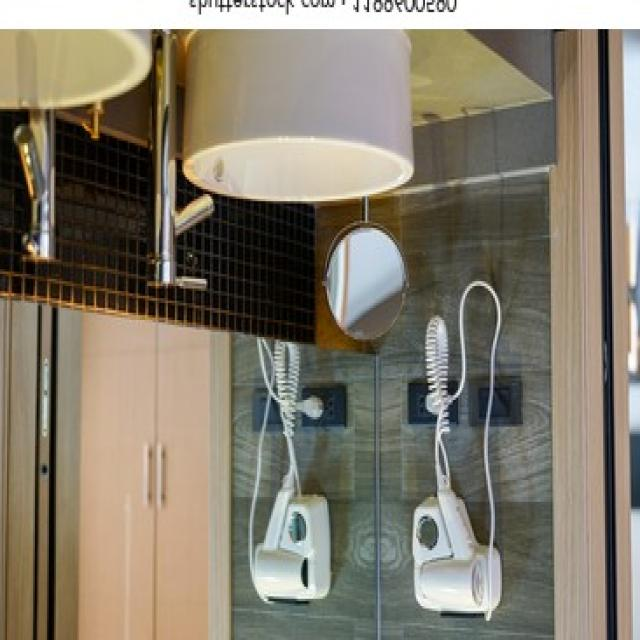dryer: (400, 276, 524, 624), (239, 339, 346, 619)
